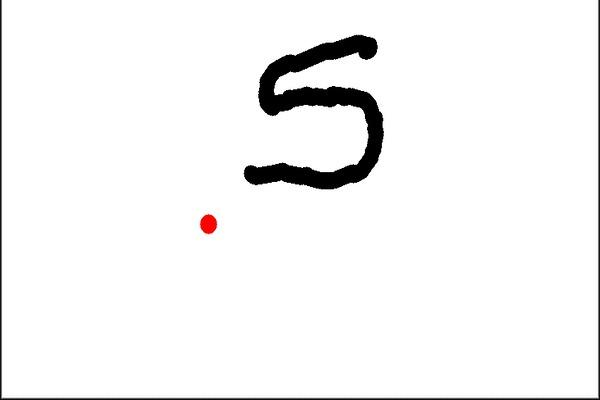S: (235, 31, 394, 192)
